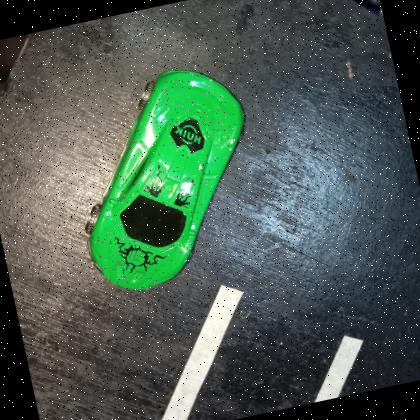Car: (53, 55, 278, 300)
